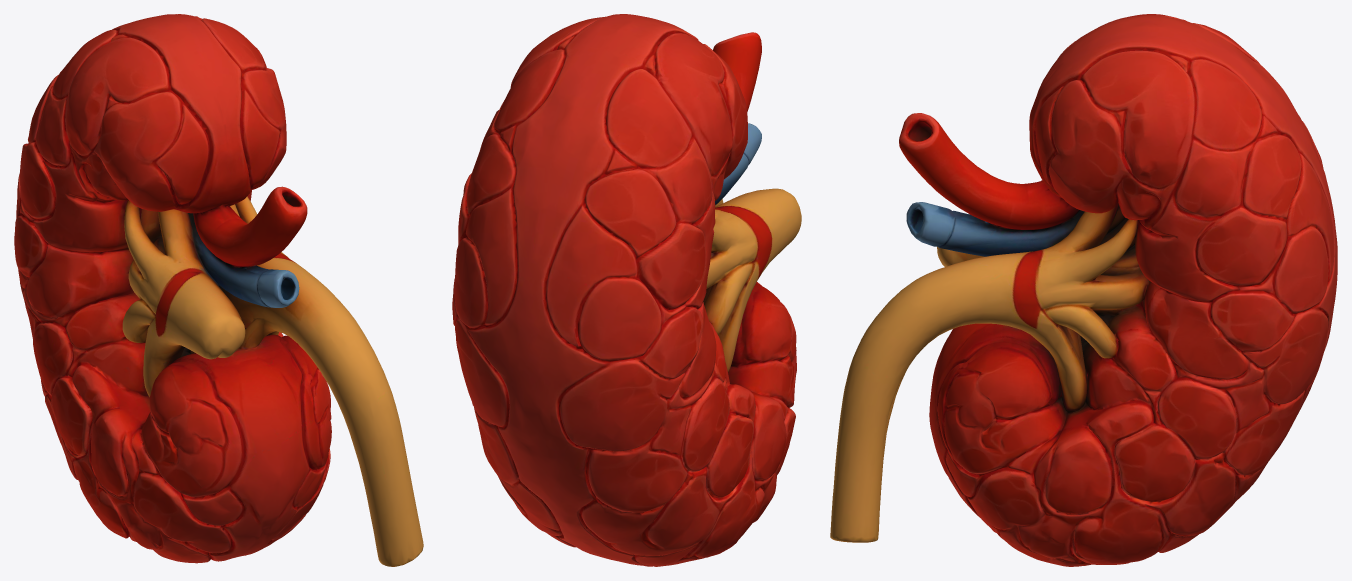
Rendered from 542a86fa-b5c6-4fd9-8e13-7e86735e3ffd.glb.
3 renders of one model, left to right at view 1: azimuth 30°, elevation 25°; view 2: azimuth 150°, elevation 25°; view 3: azimuth 270°, elevation 25°, orthographic. The views are drawn at different scales.
Parts seen in each view (by area): view 1: tripo_node_59b820e4-7995-4151-858d-287c7ea90757; view 2: tripo_node_59b820e4-7995-4151-858d-287c7ea90757; view 3: tripo_node_59b820e4-7995-4151-858d-287c7ea90757.
Boxes of the visible parts, <box> form: tripo_node_59b820e4-7995-4151-858d-287c7ea90757: <box>14,14,423,566</box>; tripo_node_59b820e4-7995-4151-858d-287c7ea90757: <box>452,14,801,566</box>; tripo_node_59b820e4-7995-4151-858d-287c7ea90757: <box>830,14,1337,566</box>.
Bounding box in the file's own units: 0.445 × 1 × 0.8745.
1 material, 1 textured.
